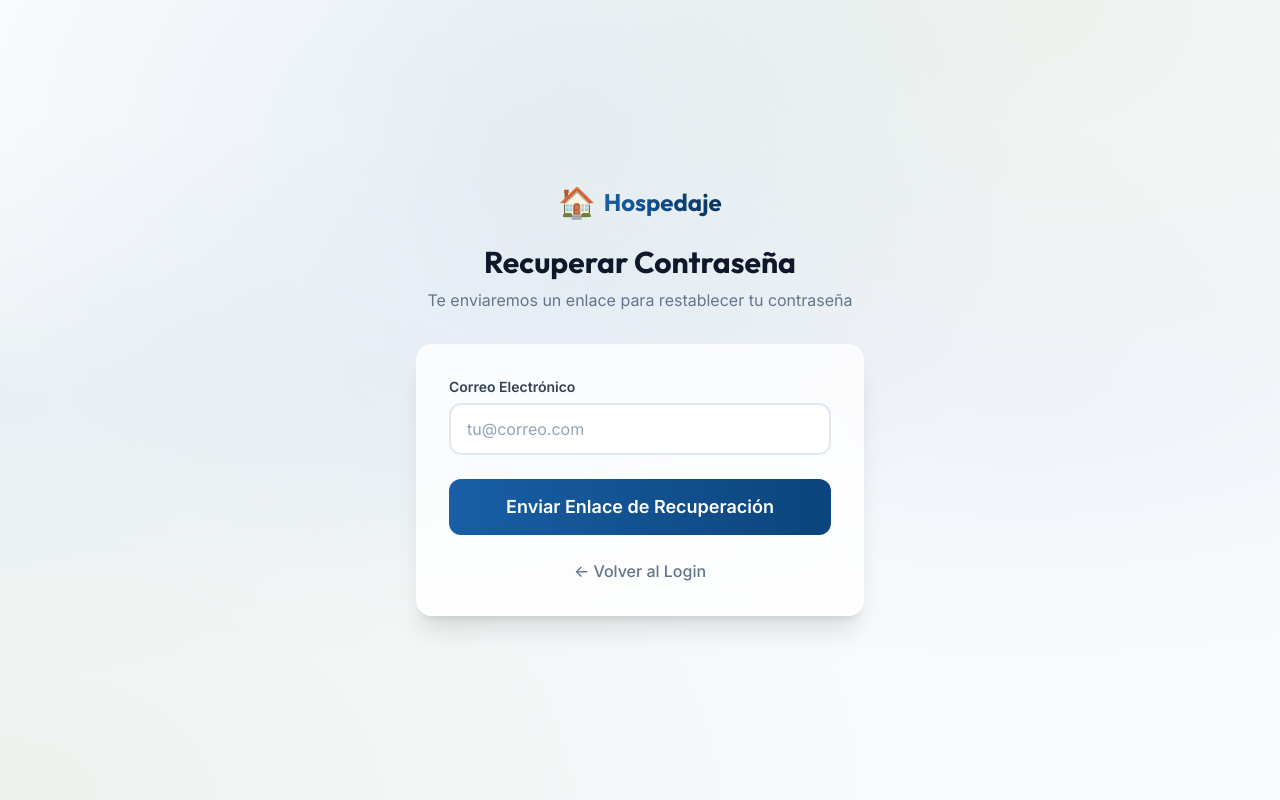
Página de Recuperación de Contraseña › valida formato de email
Type "noesemail" into the field labelled "Correo Electrónico". click: [640, 429]
box: [449,403,831,455]
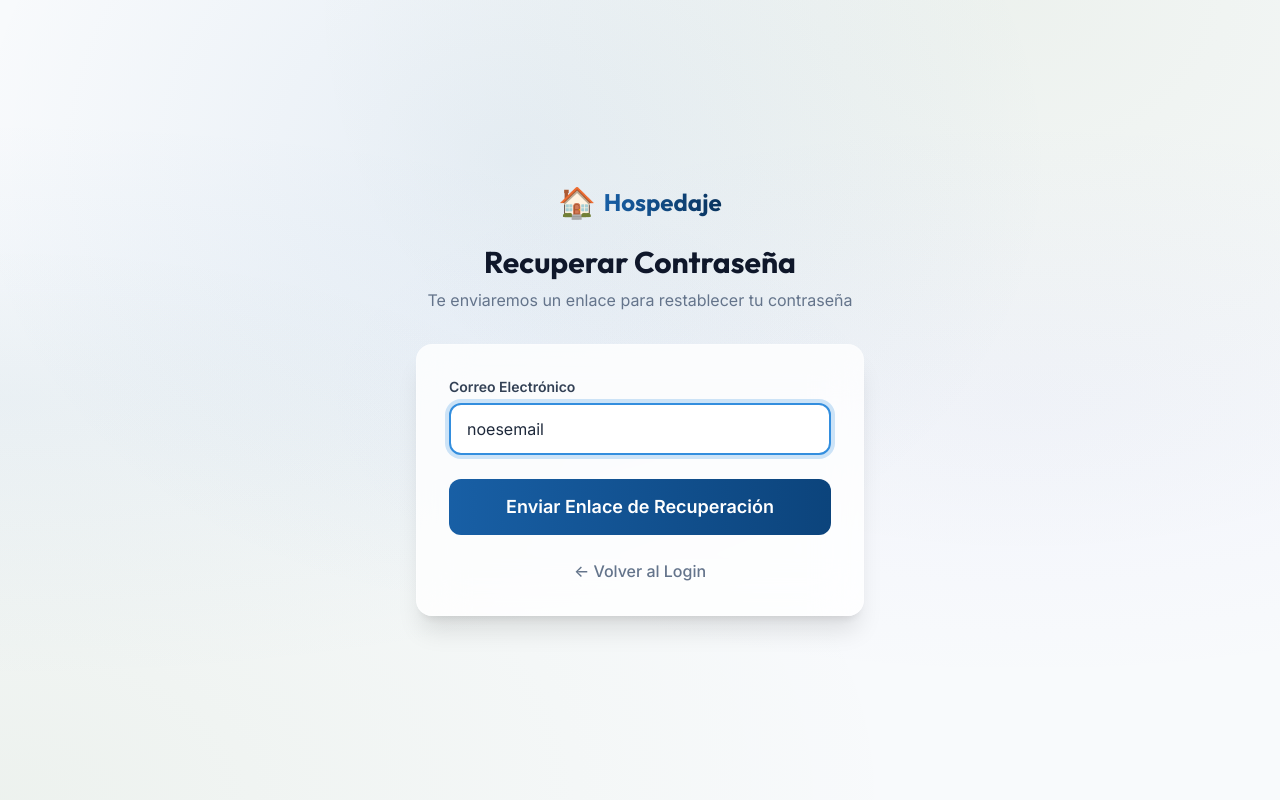
Click the button "Enviar Enlace de Recuperación". click: [640, 507]
box: [449,479,831,535]
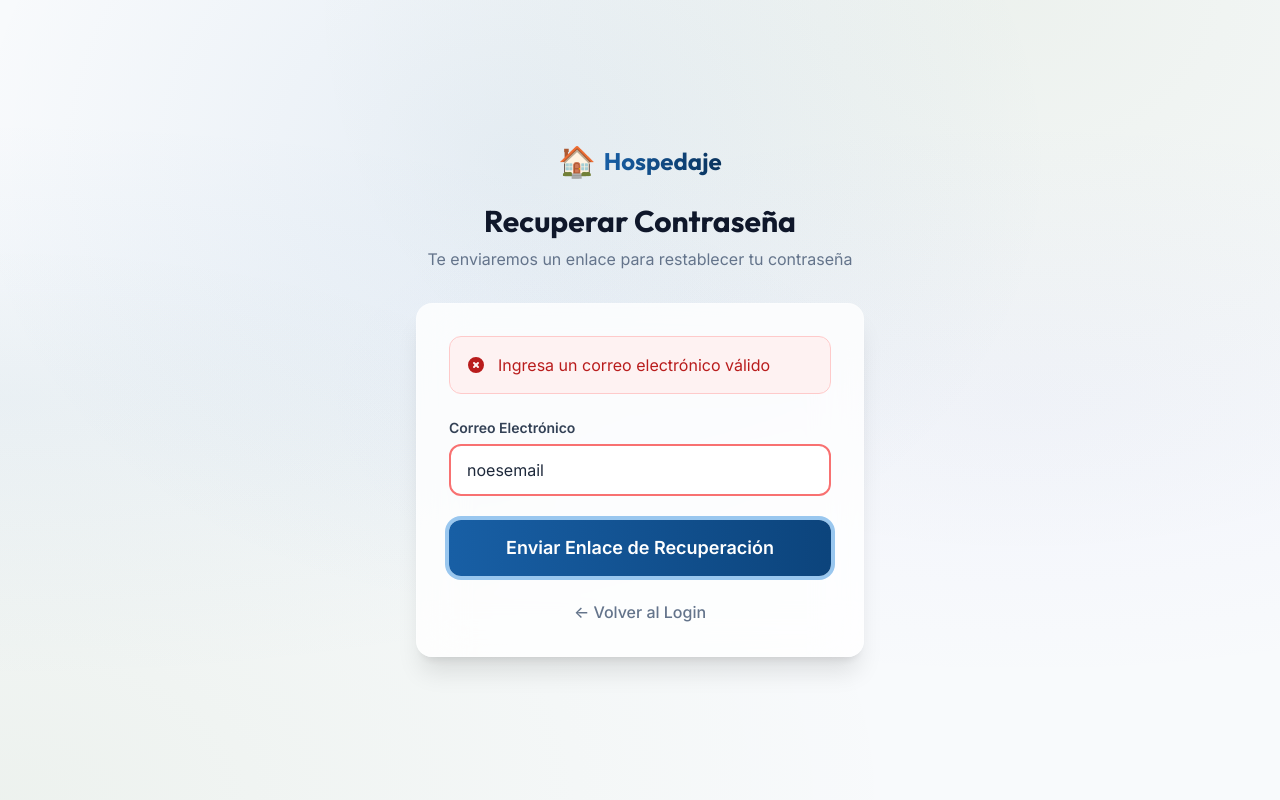
Result: the text "Ingresa un correo electrónico válido" is shown at [498,353,770,377]
